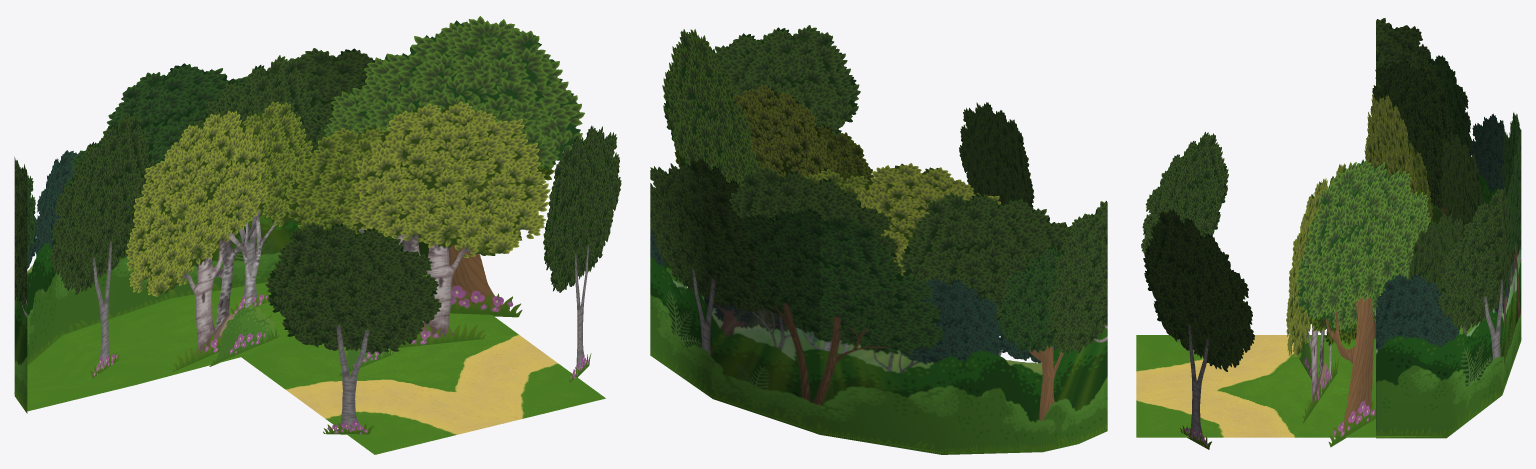
The model's file is junction1.dae.
3 renders of one model, left to right at view 1: azimuth 30°, elevation 25°; view 2: azimuth 150°, elevation 25°; view 3: azimuth 270°, elevation 25°, orthographic. The views are drawn at different scales.
Visible parts, largest first — view 1: floor, junctree08, junctree01, juntiontrees, junctree02, junctree010, junctree05, junctree011, junctree013, juncbush05, junctree012; view 2: juntiontrees, junctree05, junctree02, junctree011, junctree08, junctree01, junctree013, junctree010, junctree012; view 3: juntiontrees, junctree02, floor, junctree011, junctree010, junctree05, junctree08, junctree01, junctree013, junctree012.
Boxes of the visible parts, <box> form: floor: <box>14,274,605,454</box>; junctree08: <box>286,101,550,348</box>; junctree01: <box>125,101,312,371</box>; juntiontrees: <box>14,48,428,413</box>; junctree02: <box>323,16,584,317</box>; junctree010: <box>265,222,441,434</box>; junctree05: <box>49,113,153,378</box>; junctree011: <box>543,125,621,382</box>; junctree013: <box>193,55,318,314</box>; juncbush05: <box>209,304,279,366</box>; junctree012: <box>299,105,360,231</box>; juntiontrees: <box>650,163,1107,454</box>; junctree05: <box>900,192,1074,356</box>; junctree02: <box>662,29,762,186</box>; junctree011: <box>715,25,860,136</box>; junctree08: <box>732,84,873,181</box>; junctree01: <box>805,163,1000,275</box>; junctree013: <box>729,166,901,271</box>; junctree010: <box>959,102,1034,209</box>; junctree012: <box>689,157,740,206</box>; juntiontrees: <box>1376,18,1521,438</box>; junctree02: <box>1296,159,1431,447</box>; floor: <box>1136,321,1521,437</box>; junctree011: <box>1143,208,1254,449</box>; junctree010: <box>1141,132,1228,342</box>; junctree05: <box>1370,58,1455,208</box>; junctree08: <box>1286,163,1346,423</box>; junctree01: <box>1364,94,1433,222</box>; junctree013: <box>1440,133,1483,334</box>; junctree012: <box>1408,213,1462,293</box>.
Bounding box in the file's own units: 113 × 61.84 × 78.55.
8 materials, 8 textured.
